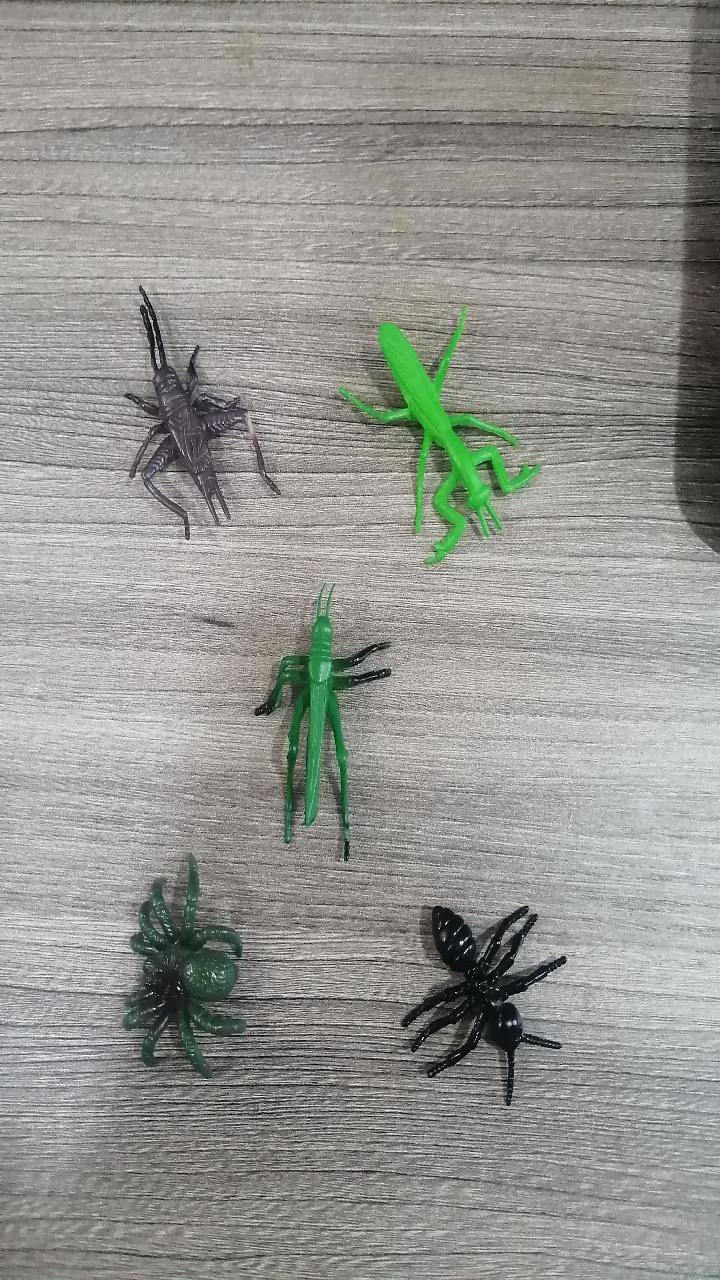intruso: (303, 249, 554, 585), (81, 248, 306, 569), (211, 579, 403, 891), (360, 869, 589, 1125), (80, 831, 289, 1094)
